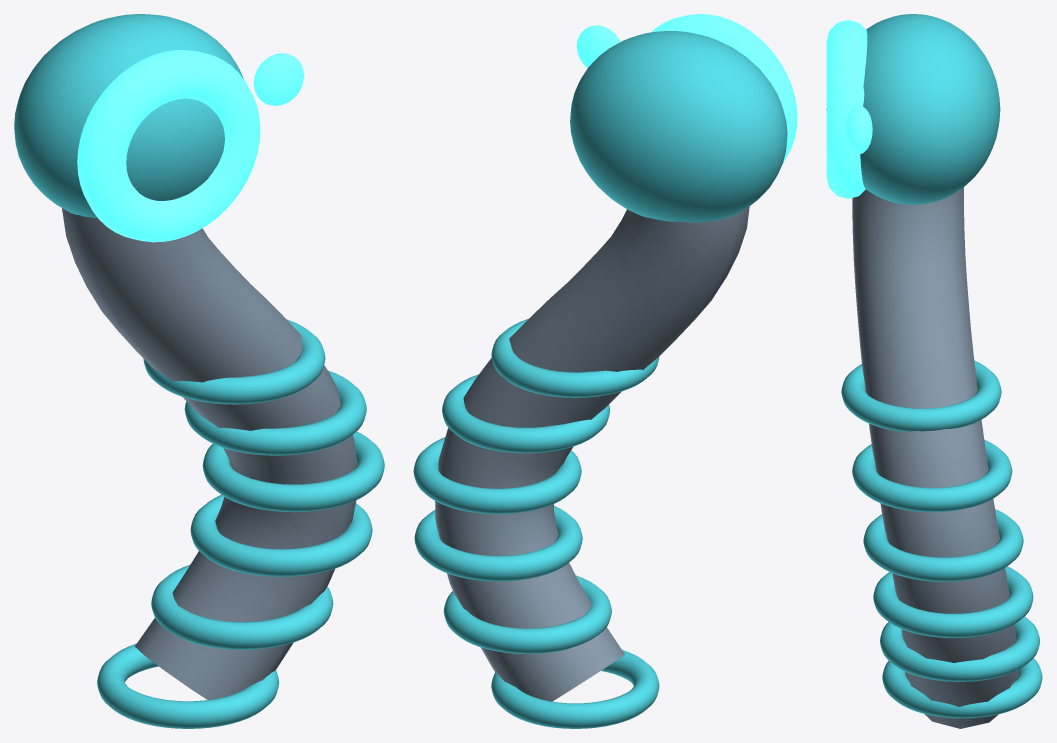
File: serpent_v8.glb
The picture shows the model from 3 angles, left to right: view 1: azimuth 30°, elevation 25°; view 2: azimuth 150°, elevation 25°; view 3: azimuth 270°, elevation 25°; orthographic projection. The views are drawn at different scales.
Parts seen in each view (by area): view 1: FINAL_SERPENT_PRIMARY, FINAL_SERPENT_HEAD_ACCENT, SANDWORM_MAW_EMISSIVE, SANDWORM_RING_ACCENT, SANDWORM_RING_ACCENT.003, SANDWORM_RING_ACCENT.002, SANDWORM_RING_ACCENT.001, SANDWORM_RING_ACCENT.004, SANDWORM_RING_ACCENT.005, EYE_EMISSIVE.001; view 2: FINAL_SERPENT_PRIMARY, FINAL_SERPENT_HEAD_ACCENT, SANDWORM_RING_ACCENT, SANDWORM_RING_ACCENT.002, SANDWORM_RING_ACCENT.003, SANDWORM_RING_ACCENT.001, SANDWORM_RING_ACCENT.004, SANDWORM_RING_ACCENT.005, SANDWORM_MAW_EMISSIVE, EYE_EMISSIVE.001; view 3: FINAL_SERPENT_PRIMARY, FINAL_SERPENT_HEAD_ACCENT, SANDWORM_MAW_EMISSIVE, SANDWORM_RING_ACCENT.004, SANDWORM_RING_ACCENT.003, SANDWORM_RING_ACCENT.002, SANDWORM_RING_ACCENT.005, SANDWORM_RING_ACCENT.001, SANDWORM_RING_ACCENT, EYE_EMISSIVE.001.
Part boxes in pixels (bbox=[...]): FINAL_SERPENT_PRIMARY: bbox=[62, 208, 357, 699]; FINAL_SERPENT_HEAD_ACCENT: bbox=[14, 14, 243, 217]; SANDWORM_MAW_EMISSIVE: bbox=[77, 50, 260, 242]; SANDWORM_RING_ACCENT: bbox=[97, 643, 279, 728]; SANDWORM_RING_ACCENT.003: bbox=[202, 431, 384, 512]; SANDWORM_RING_ACCENT.002: bbox=[190, 494, 372, 576]; SANDWORM_RING_ACCENT.001: bbox=[151, 565, 333, 649]; SANDWORM_RING_ACCENT.004: bbox=[184, 370, 366, 455]; SANDWORM_RING_ACCENT.005: bbox=[143, 319, 325, 404]; EYE_EMISSIVE.001: bbox=[253, 53, 303, 105]; FINAL_SERPENT_PRIMARY: bbox=[435, 206, 749, 701]; FINAL_SERPENT_HEAD_ACCENT: bbox=[570, 31, 787, 222]; SANDWORM_RING_ACCENT: bbox=[491, 650, 659, 728]; SANDWORM_RING_ACCENT.002: bbox=[414, 505, 582, 581]; SANDWORM_RING_ACCENT.003: bbox=[413, 437, 581, 514]; SANDWORM_RING_ACCENT.001: bbox=[443, 575, 611, 653]; SANDWORM_RING_ACCENT.004: bbox=[442, 374, 609, 453]; SANDWORM_RING_ACCENT.005: bbox=[491, 318, 659, 397]; SANDWORM_MAW_EMISSIVE: bbox=[651, 14, 797, 162]; EYE_EMISSIVE.001: bbox=[576, 25, 620, 67]; FINAL_SERPENT_PRIMARY: bbox=[852, 187, 1019, 728]; FINAL_SERPENT_HEAD_ACCENT: bbox=[826, 14, 1000, 204]; SANDWORM_MAW_EMISSIVE: bbox=[826, 20, 867, 198]; SANDWORM_RING_ACCENT.004: bbox=[852, 439, 1012, 512]; SANDWORM_RING_ACCENT.003: bbox=[863, 509, 1023, 581]; SANDWORM_RING_ACCENT.002: bbox=[873, 566, 1033, 637]; SANDWORM_RING_ACCENT.005: bbox=[841, 360, 1001, 431]; SANDWORM_RING_ACCENT.001: bbox=[880, 616, 1039, 681]; SANDWORM_RING_ACCENT: bbox=[882, 658, 1042, 718]; EYE_EMISSIVE.001: bbox=[845, 105, 872, 153].
Size of the model in its own units: 1.36 by 2.63 by 0.7953.
